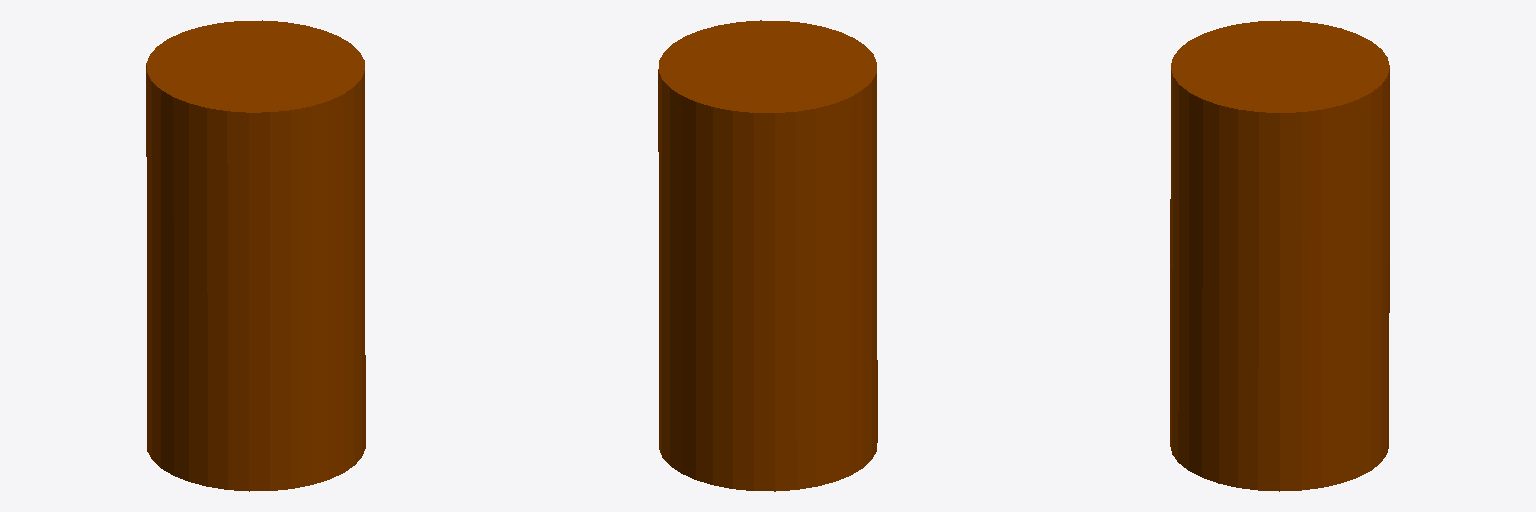
The robot description file, URDF, robot "cylinder":
<?xml version="1.0"?>
<robot name="cylinder">

	<!-- Define the brown (carton-like) color material -->
	<material name="carton_brown">
		<color rgba="0.59 0.29 0.0 1.0"/>
	</material>

	<link name="base">
		<visual>
			<origin xyz="0 0 0" rpy="3.14 0 0" />
			<geometry>
				<mesh filename="./meshes/cylinder_inhole.stl" scale="1 1 1"/>
			</geometry>
			<material name="carton_brown"/>
		</visual>
		<collision>
			<origin xyz="0 0 0" rpy="3.14 0 0" />
			<geometry>
				<mesh filename="./meshes/cylinder_inhole.stl" scale="1 1 1"/>
			</geometry>
			<material name="carton_brown"/>
		</collision>
	</link>
</robot>

--- What the picture shows (computed from the rendered views, not written in the file) ---
Views: 3 orthographic renders of the robot side by side, from view 1: azimuth 30°, elevation 25°; view 2: azimuth 150°, elevation 25°; view 3: azimuth 270°, elevation 25°.
Model cylinder with 1 links and 0 joints (none), rooted at base, posed all joints at 0.
Visible links, largest first — view 1: base; view 2: base; view 3: base.
Boxes of the visible links, left/top/right/bottom form: base: left=146, top=20, right=365, bottom=491; base: left=658, top=20, right=877, bottom=491; base: left=1170, top=20, right=1389, bottom=491.
Size in the robot's own frame: 0.105 by 0.1053 by 0.2002 metres.
Meshes: 1 distinct files referenced, 1 mesh visuals loaded (1 binary STL).